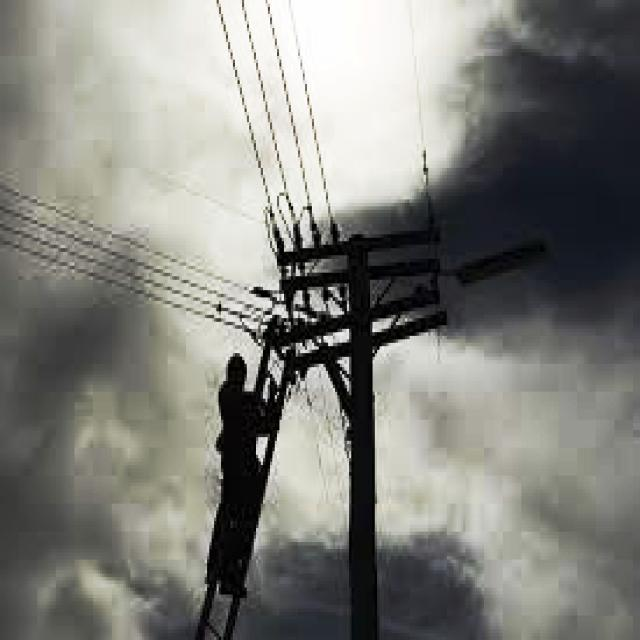obstruction: (195, 343, 289, 637)
poles: (282, 231, 447, 637)
wires: (7, 171, 272, 351), (215, 2, 347, 242)
